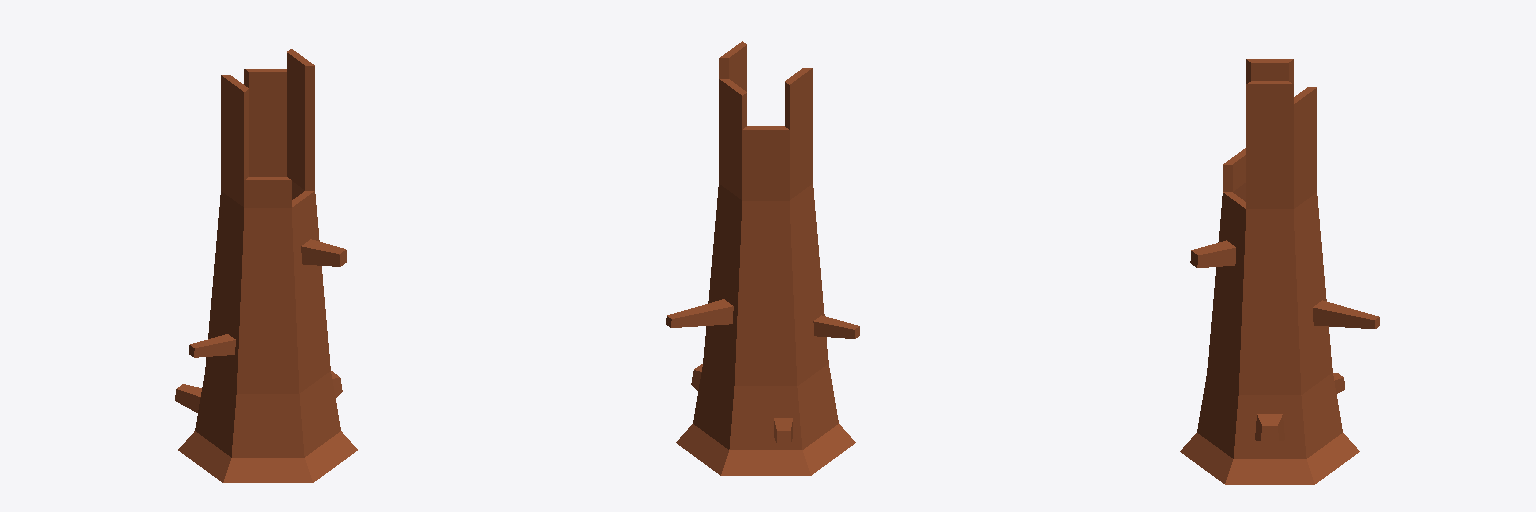
Rendered from trunkLong.obj.
3 renders of one model, left to right at view 1: azimuth 30°, elevation 25°; view 2: azimuth 150°, elevation 25°; view 3: azimuth 270°, elevation 25°, orthographic.
Visible parts, largest first — view 1: trunkLong; view 2: trunkLong; view 3: trunkLong.
Boxes of the visible parts, x1,y1,x2,y2 form: trunkLong: [175, 49, 357, 482]; trunkLong: [666, 41, 859, 475]; trunkLong: [1180, 59, 1379, 484].
Size of the model in its own units: 0.5442 by 1.29 by 0.6118.